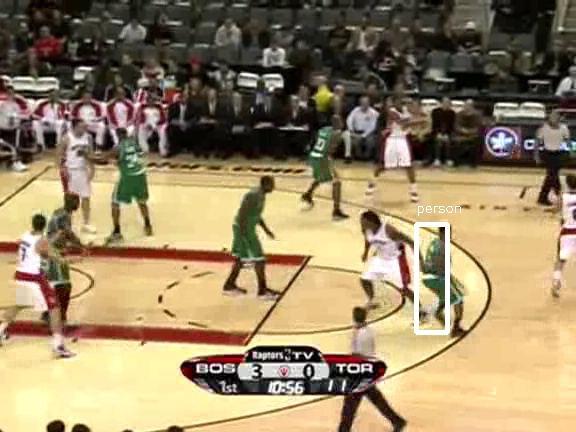person: (419, 232, 453, 313), (418, 232, 452, 313), (420, 232, 454, 313), (419, 231, 453, 312), (419, 233, 453, 314)
target_negative: (10, 117, 506, 274), (253, 146, 530, 310), (200, 64, 312, 345), (39, 218, 201, 315), (487, 151, 573, 242), (489, 63, 498, 344)
